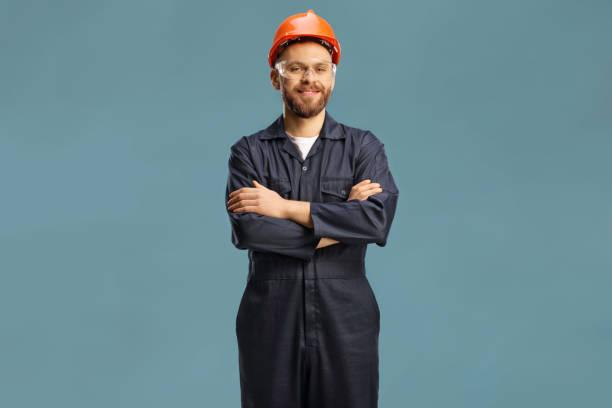capacete: (261, 10, 345, 65)
pessoa: (223, 6, 385, 407)
